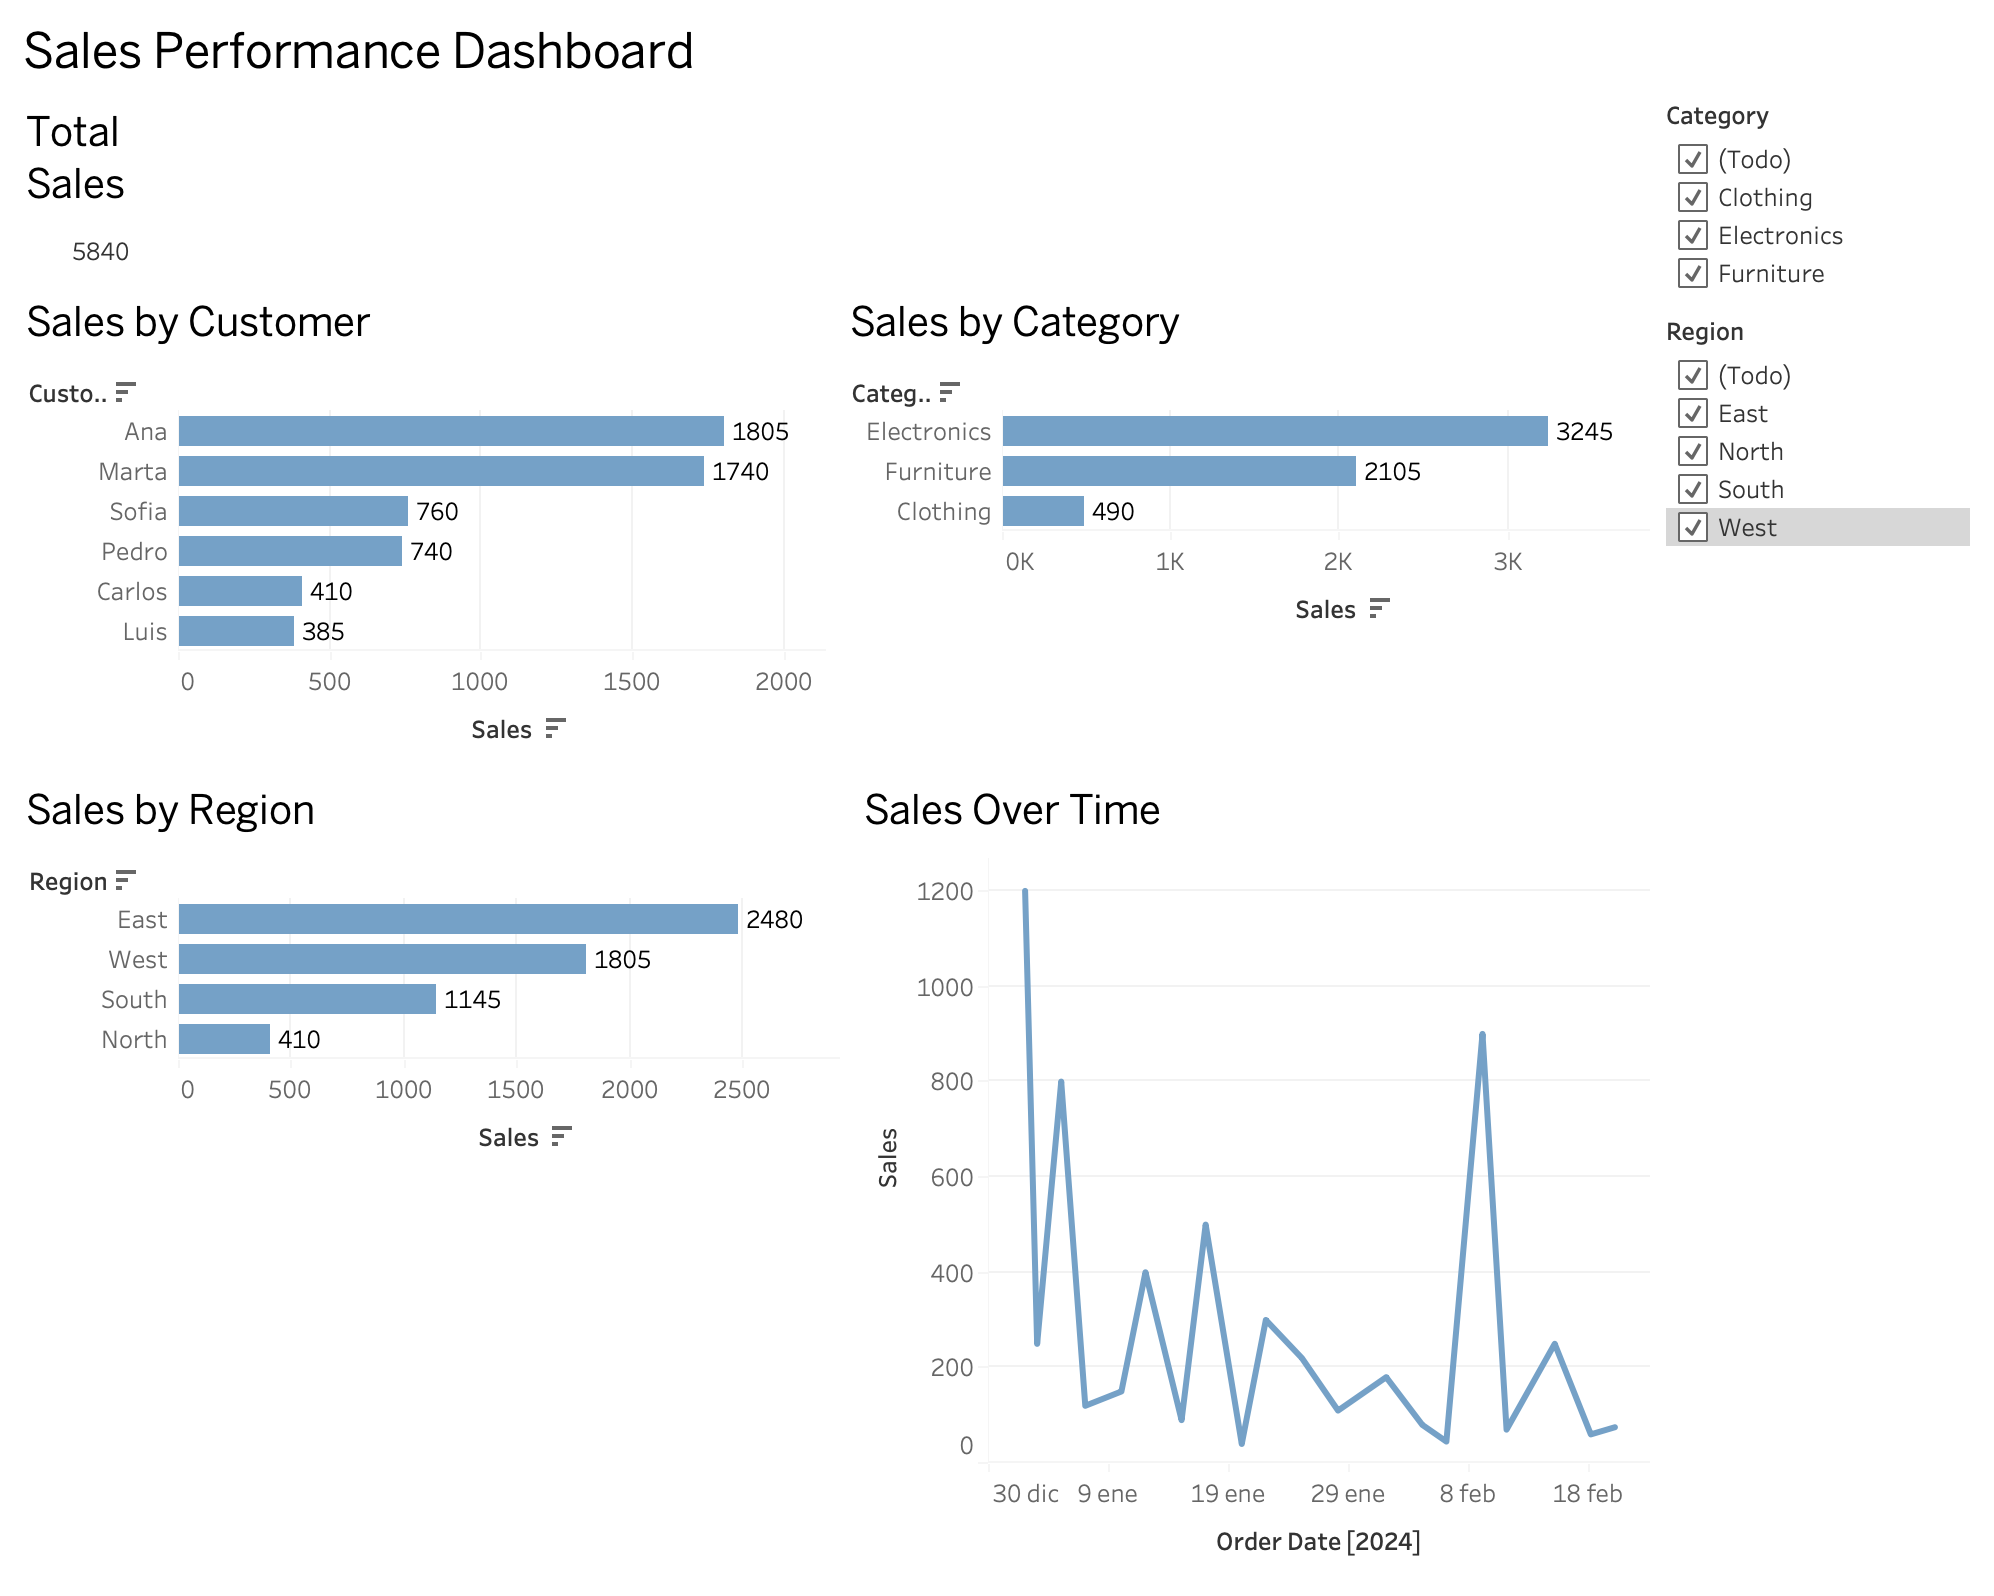

This screenshot's page, from the dashboard's own definition file:
{"tool":"tableau","page":{"name":"Dashboard 1","canvas":[1000,800],"ordinal":0},"visuals":[{"type":"title","box":[8,8,984,39]},{"type":"worksheet","title":"Hoja 1","mark":"Automatic","box":[8,47,824,95]},{"type":"filter","title":"Hoja 4","param":"[federated.0qno46g0lfbt2314nw8m40pain1f].[none:category:nk]","box":[832,47,160,108]},{"type":"worksheet","title":"Hoja 2","mark":"Automatic","rows":["customer_name"],"cols":["sales"],"box":[8,142,412,244]},{"type":"worksheet","title":"Hoja 3","mark":"Automatic","rows":["category"],"cols":["sales"],"box":[420,142,412,244]},{"type":"filter","title":"Hoja 3","param":"[federated.0qno46g0lfbt2314nw8m40pain1f].[none:region:nk]","box":[832,155,160,127]},{"type":"worksheet","title":"Hoja 4","mark":"Automatic","rows":["region"],"cols":["sales"],"box":[8,386,419,406]},{"type":"worksheet","title":"Hoja 5","mark":"Automatic","rows":["sales"],"cols":["order_date"],"box":[427,386,405,406]}]}

Visuals, with their boxes in screenshot pixels (x1, y1, x2, y2), scaled from the page's 1000x800 canvas onto the 1994x1596 screenshot:
title: select_region(16, 16, 1978, 94)
"Hoja 1" worksheet: select_region(16, 94, 1659, 283)
"Hoja 4" filter: select_region(1659, 94, 1978, 309)
"Hoja 2" worksheet: select_region(16, 283, 837, 770)
"Hoja 3" worksheet: select_region(837, 283, 1659, 770)
"Hoja 3" filter: select_region(1659, 309, 1978, 563)
"Hoja 4" worksheet: select_region(16, 770, 851, 1580)
"Hoja 5" worksheet: select_region(851, 770, 1659, 1580)
